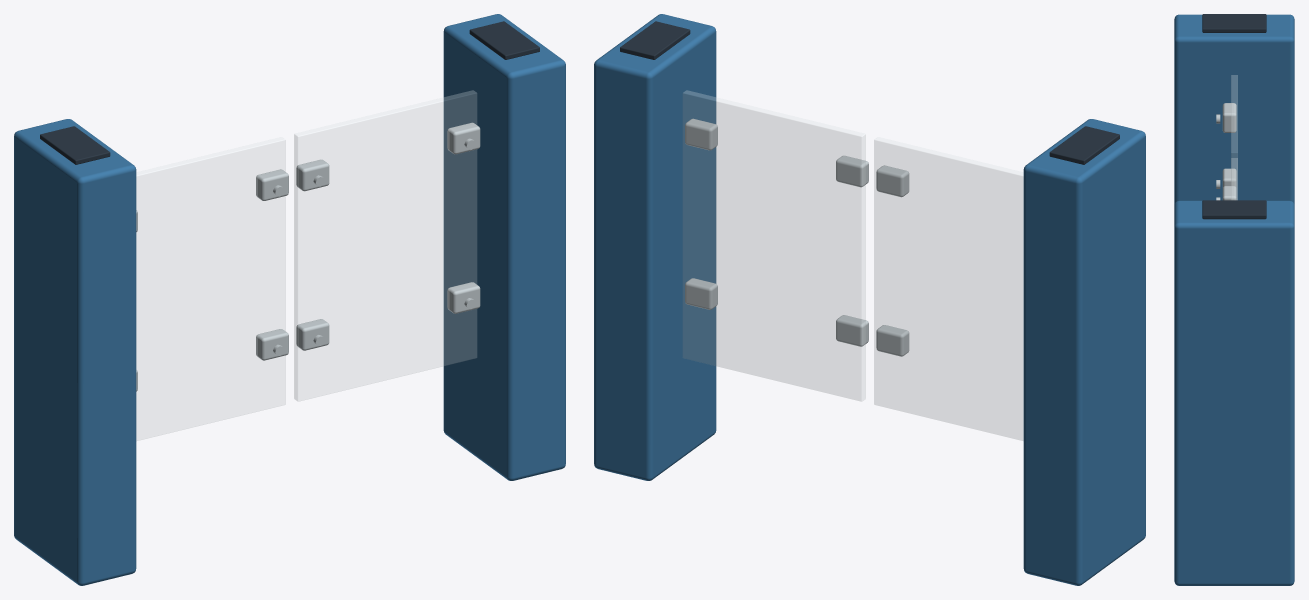
File: squash-club-and-racket-workshop-check-in-gate-b27e6be4__29775.glb
3 renders of one model, left to right at view 1: azimuth 30°, elevation 25°; view 2: azimuth 150°, elevation 25°; view 3: azimuth 270°, elevation 25°, orthographic. The views are drawn at different scales.
Visible parts, largest first — view 1: check-in-gate; view 2: check-in-gate; view 3: check-in-gate.
Boxes of the visible parts, x1,y1,x2,y2 form: check-in-gate: (14, 14, 565, 585); check-in-gate: (594, 14, 1145, 585); check-in-gate: (1174, 14, 1294, 585).
Bounding box in the file's own units: 1.25 × 1.01 × 0.3.
